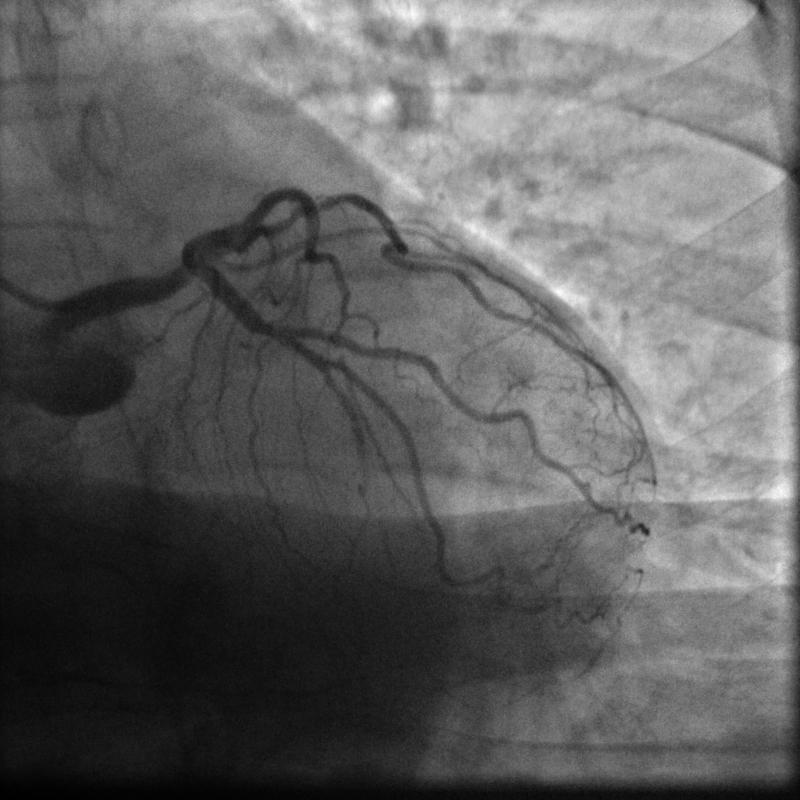Stenosis: (257, 309, 291, 354)
